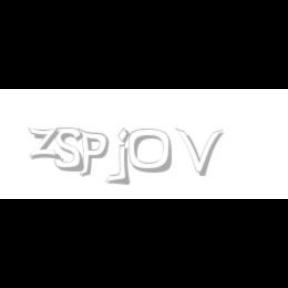O: (128, 128, 174, 174)
P: (77, 128, 109, 178)
S: (54, 128, 86, 172)
V: (175, 128, 223, 176)
j: (116, 128, 144, 186)
z: (27, 128, 63, 160)
